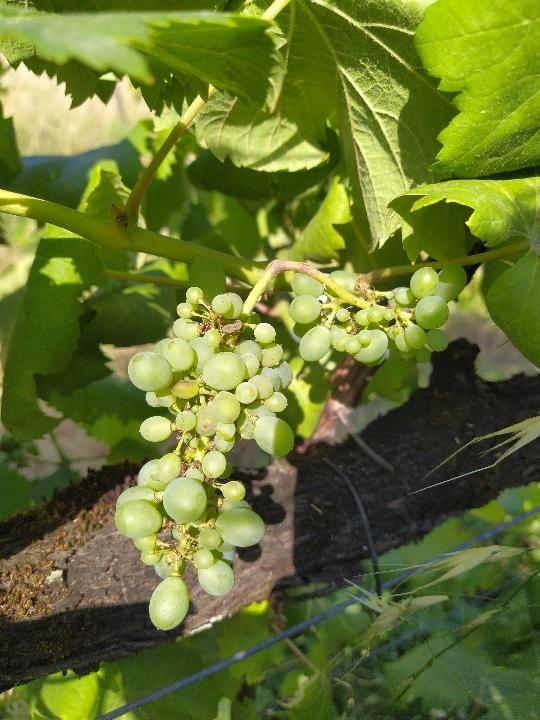grape: (106, 251, 468, 636)
